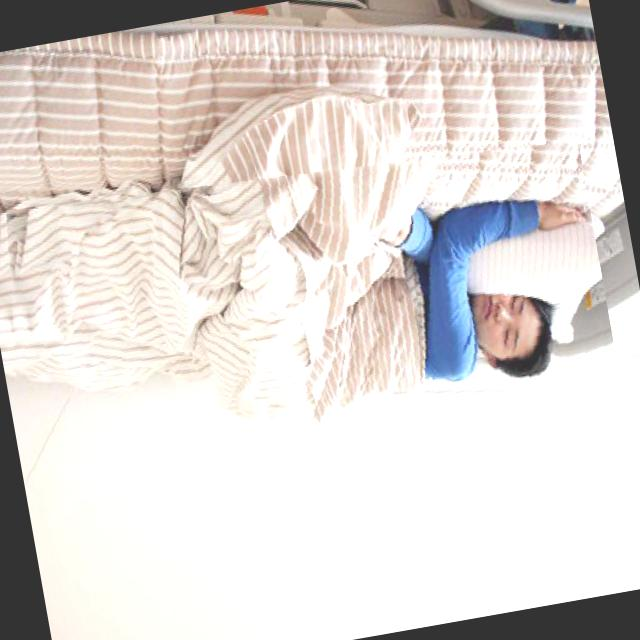people: (0, 110, 618, 477)
